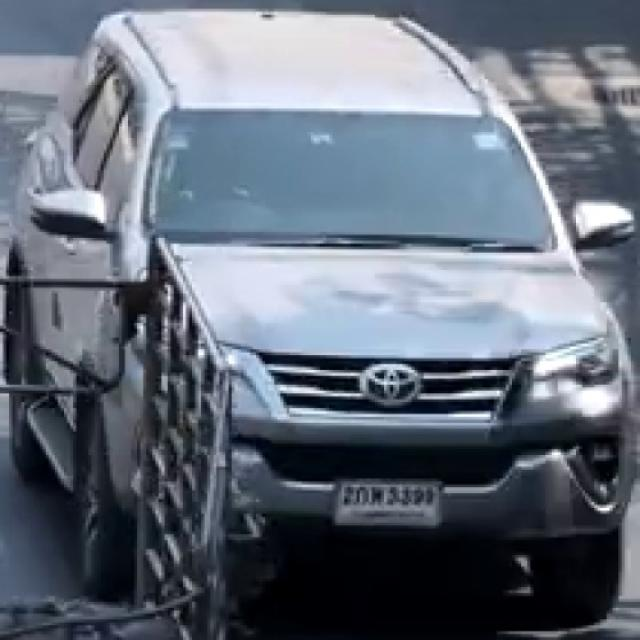plate: (338, 480, 445, 527)
